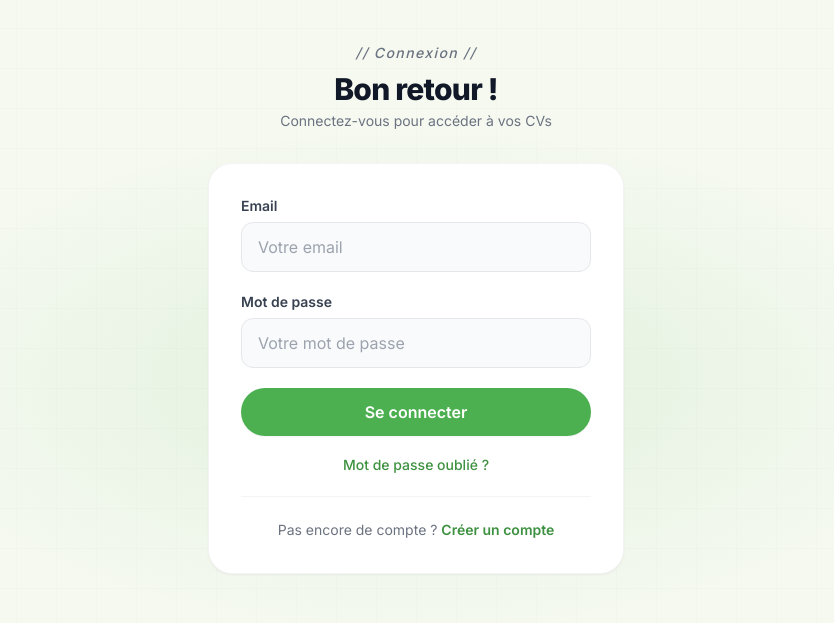
Test case: Login Flow Integration Test › should handle authentication errors and display error message
SIMULATION DU FLUX AVEC ERREUR
Step 1. Type "nguyen.wrong@example.com" into the field with test id "email-input" → [416, 246], box [241,222,591,272]
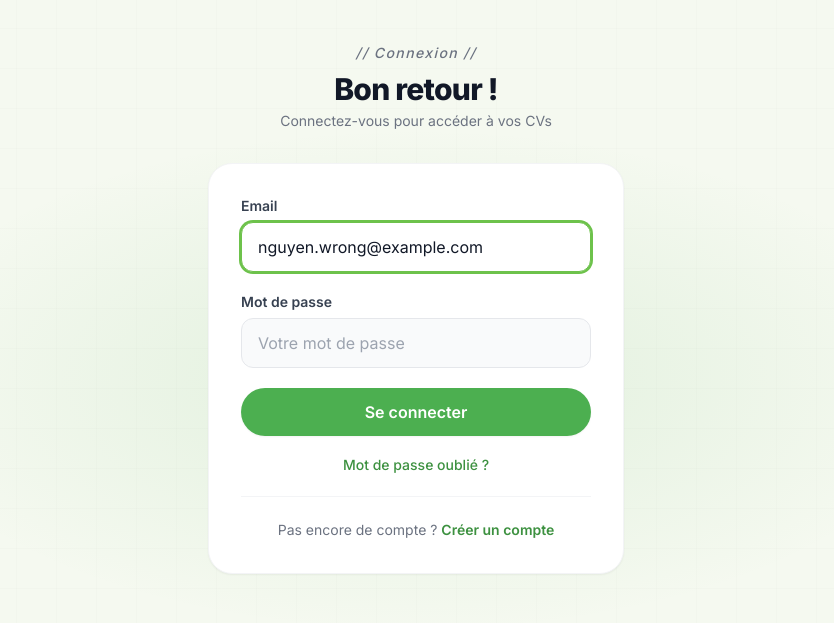
Step 2. Type "wrongpassword" into the password field with test id "password-input" → [416, 342], box [241,318,591,368]
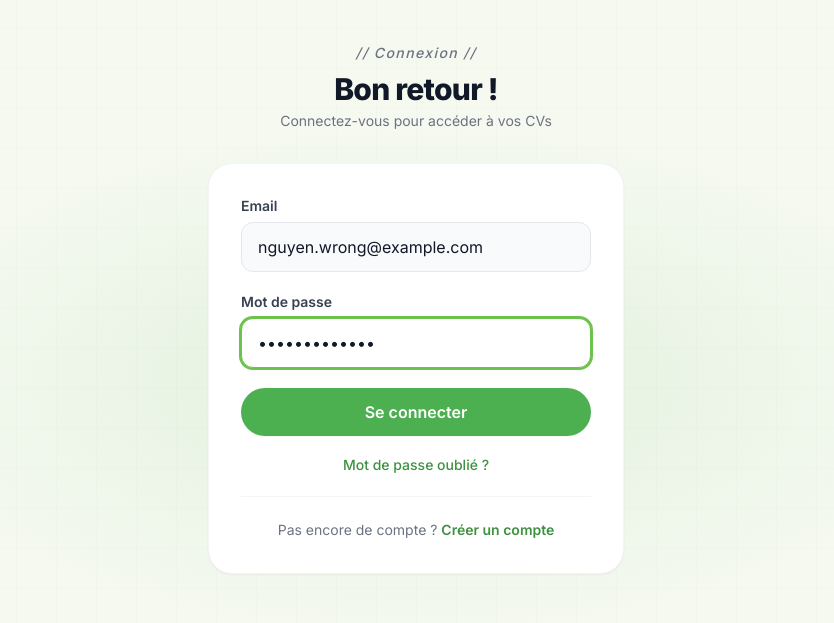
Step 3. Click the button with test id "submit-button" → [416, 412], box [241,388,591,436]
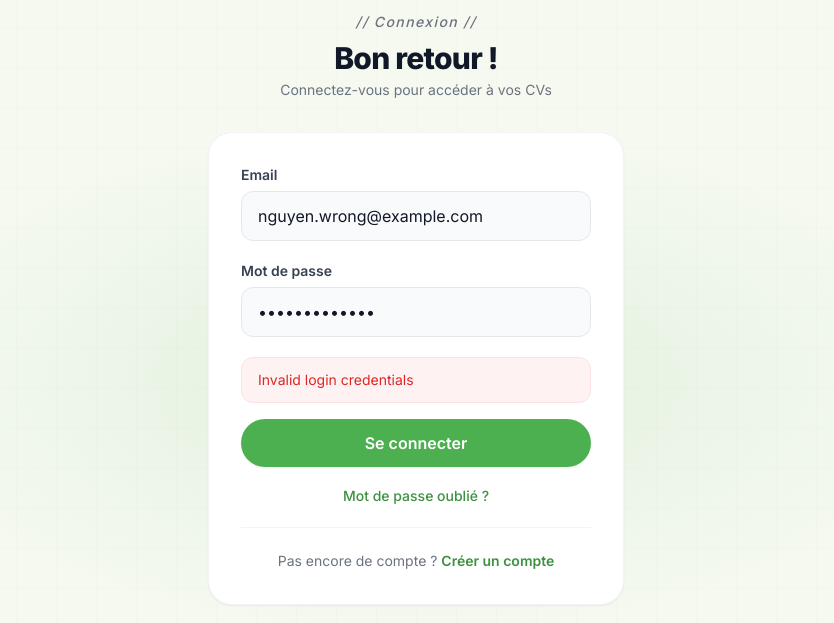
Result: the text "Invalid login credentials" is shown at [241,356,591,402]
